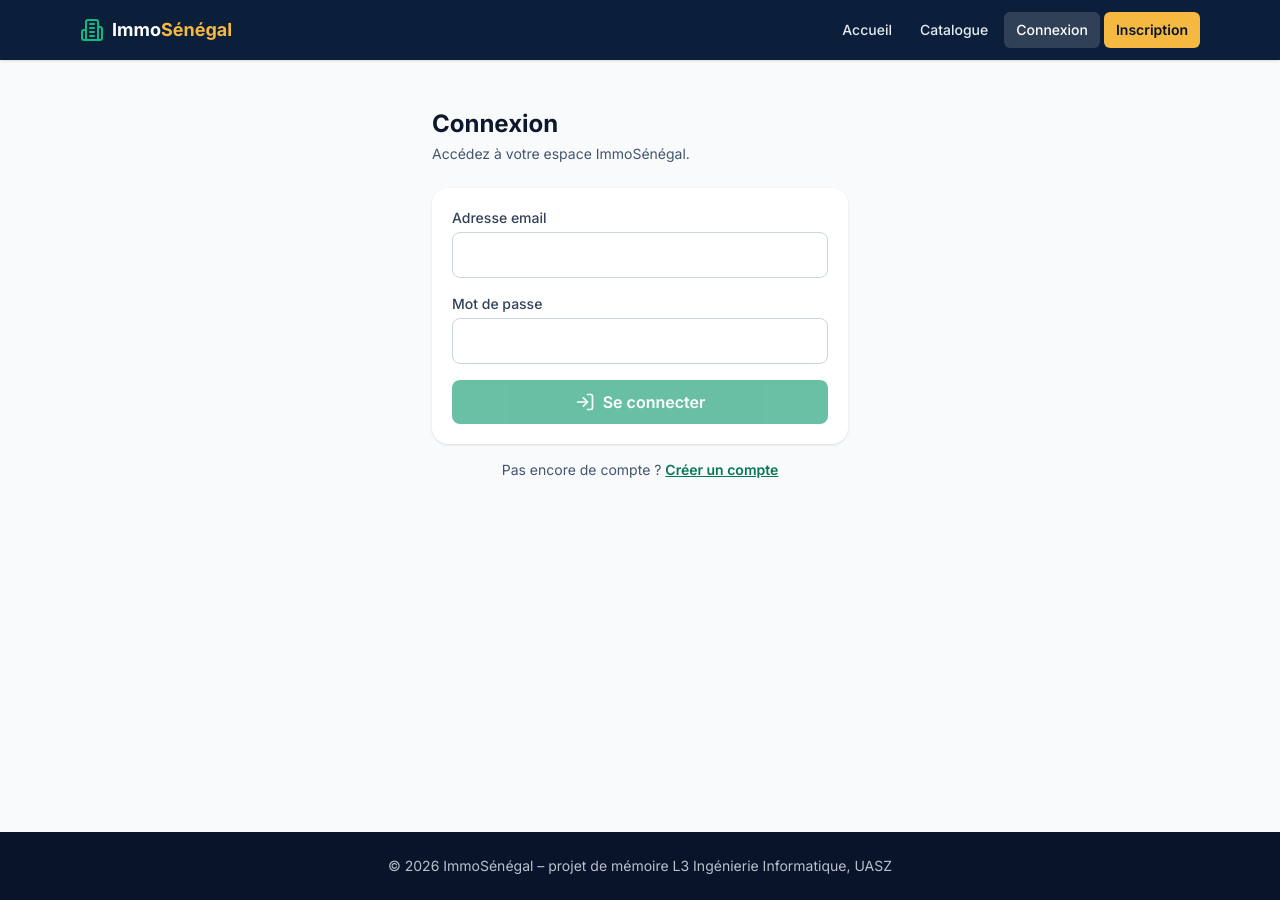
Test: Publication et gestion des annonces › un compte Client voit un message clair et aucun formulaire
Type "khady@example.test" into the field labelled "Adresse email" at (640, 255), box [452,232,828,278]
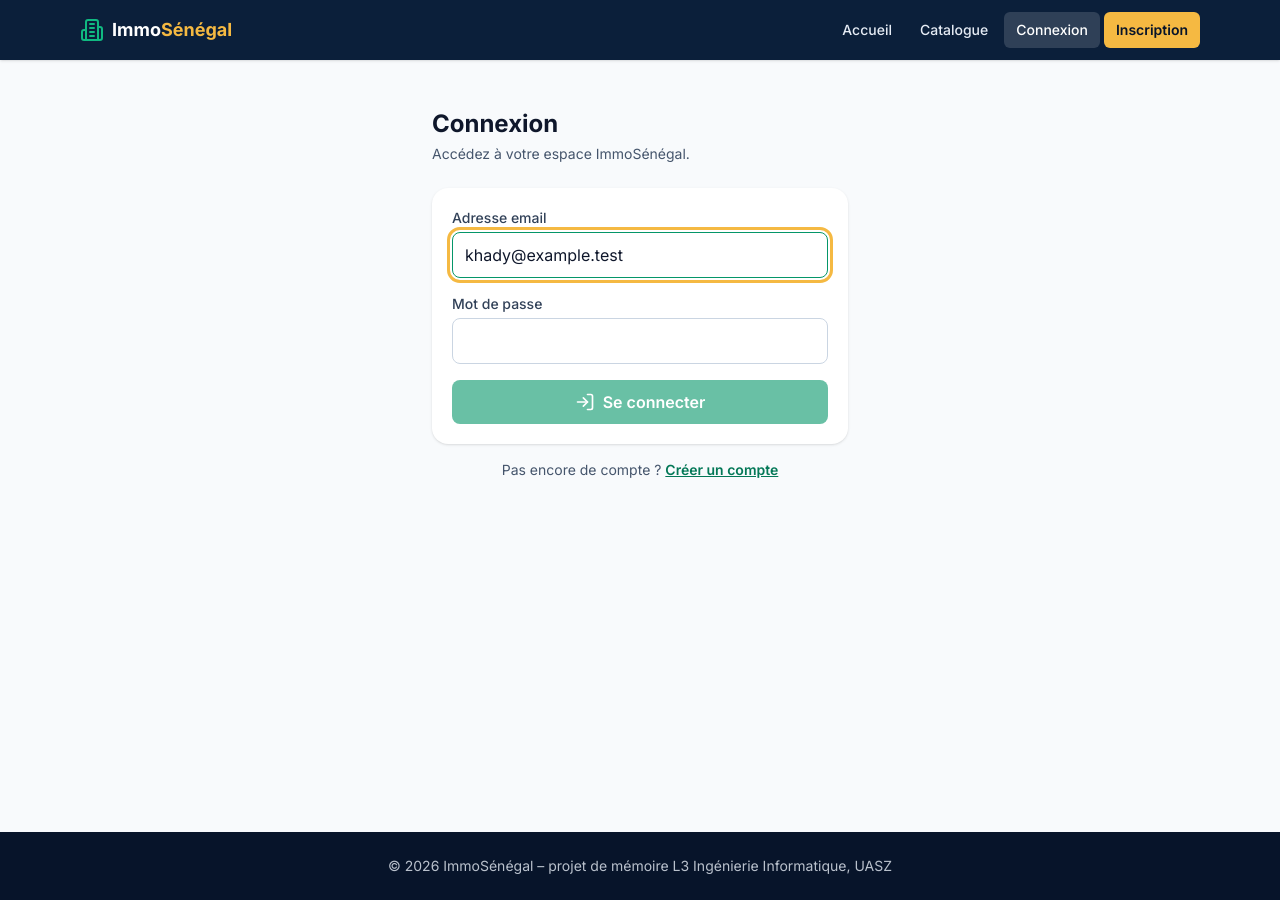
Type "MotDePasse123!" into the password field labelled "Mot de passe" at (640, 341), box [452,318,828,364]
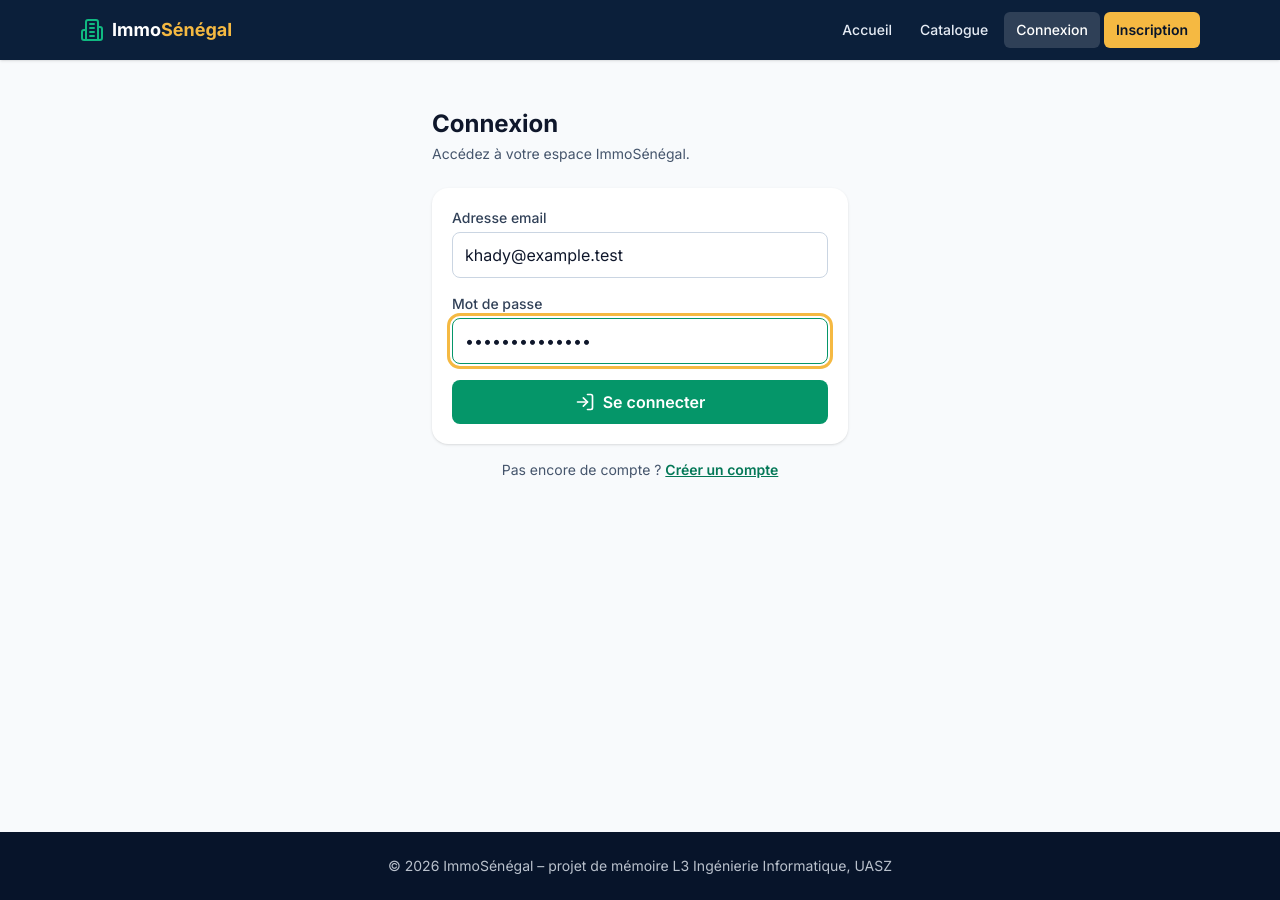
Click the button "Se connecter" at (640, 402), box [452,380,828,424]
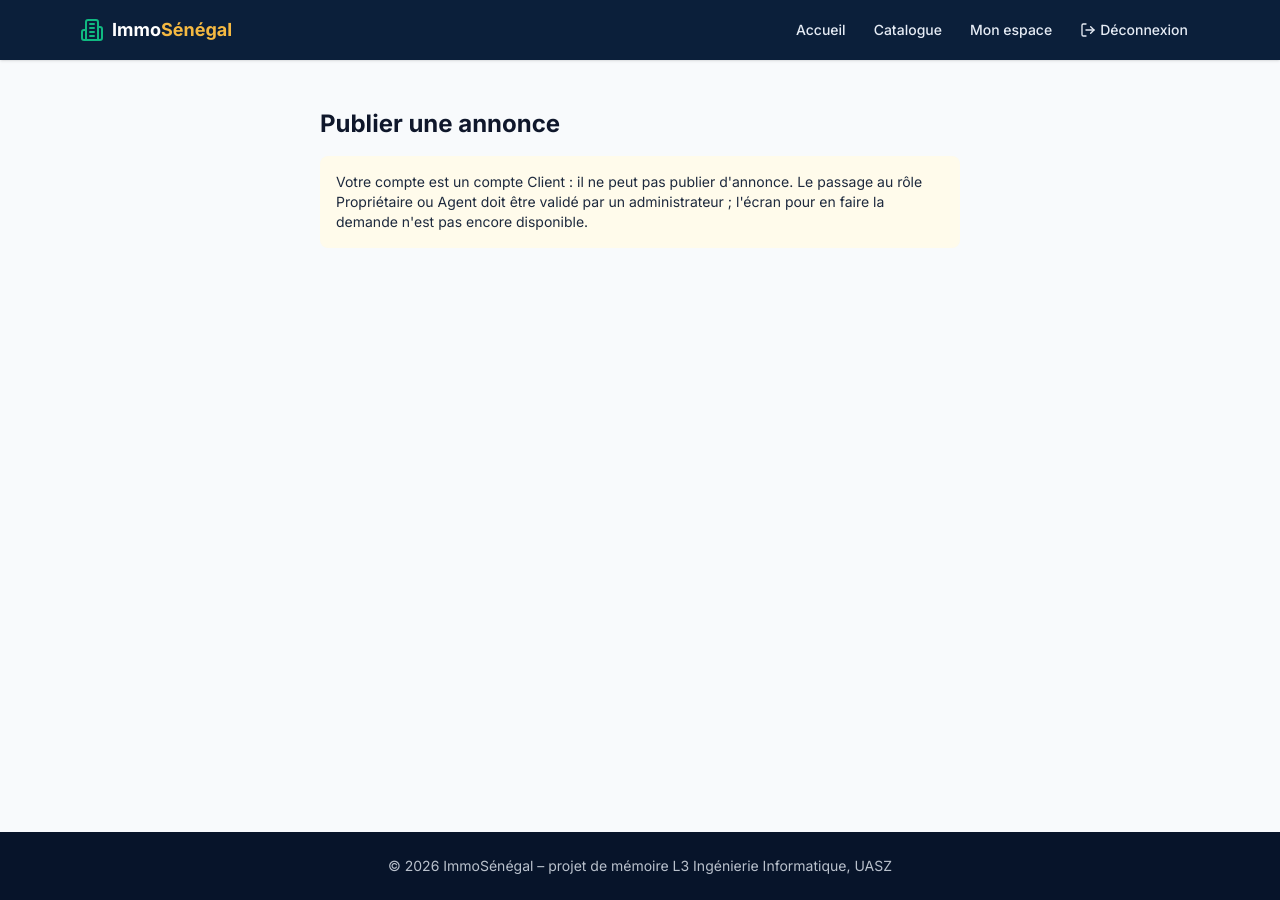
Now the message shows "compte Client", box [336,173,922,230]
